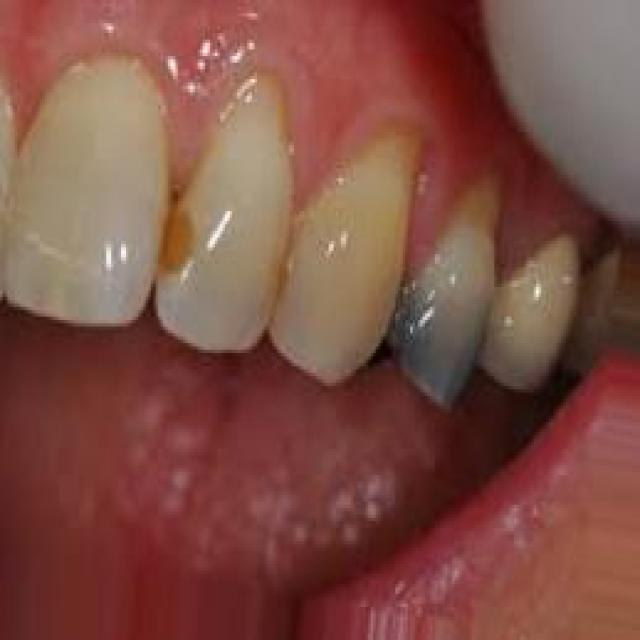caries: (150, 188, 206, 296)
